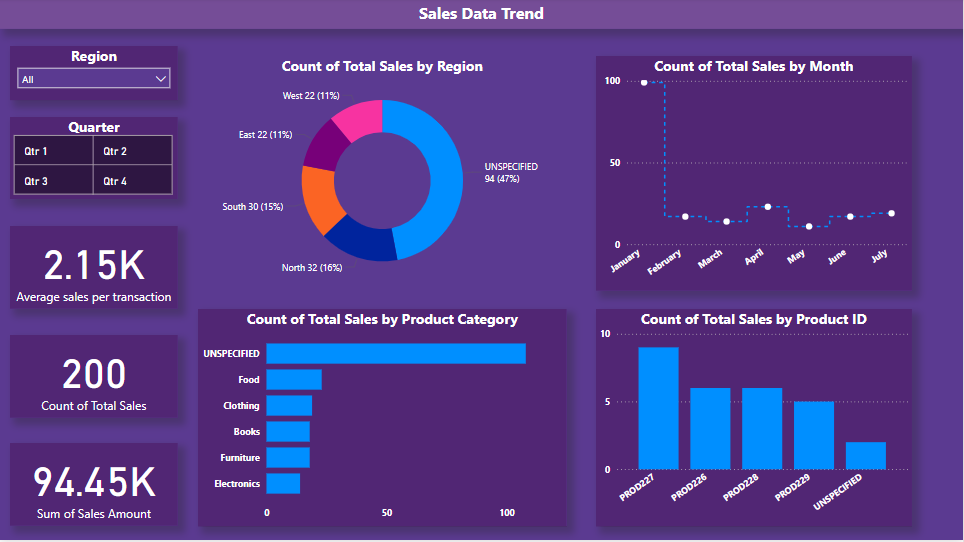

What the dashboard file says about the page in this screenshot:
{"tool":"powerbi","page":{"name":"Sales Data Trend","canvas":[1280,720],"ordinal":0},"visuals":[{"type":"textbox","box":[0,0,1280,41.3],"z":0},{"type":"lineChart","fields":{"Category":["Sales Data.Order Date.Variation.Date Hierarchy.Month"],"Y":["CountNonNull(Sales Data.Total Sales)"]},"box":[792.8,77.1,419.8,312.4],"z":1000},{"type":"barChart","fields":{"Category":["Sales Data.Product Category"],"Y":["CountNonNull(Sales Data.Total Sales)"]},"box":[262.9,412.9,490,289],"z":2000},{"type":"donutChart","fields":{"Category":["Sales Data.Region"],"Y":["CountNonNull(Sales Data.Total Sales)"]},"box":[262.9,77.1,490,312.4],"z":3000},{"type":"columnChart","fields":{"Y":["CountNonNull(Sales Data.Total Sales)"],"Category":["Sales Data.Product ID"]},"box":[792.8,412.9,419.8,289],"z":4000},{"type":"card","fields":{"Values":["Sales Data.Average sales per transactio"]},"box":[13.8,302.8,223,110.1],"z":5000},{"type":"card","fields":{"Values":["CountNonNull(Sales Data.Total Sales)"]},"box":[13.8,447.3,223,110.1],"z":6000},{"type":"card","fields":{"Values":["Sum(Sales Data.Sales Amount)"]},"box":[13.8,591.8,223,110.1],"z":7000},{"type":"advancedSlicerVisual","fields":{"Values":["Sales Data.Order Date.Variation.Date Hierarchy.Quarter"]},"box":[13.8,158.3,223,108.7],"z":8000},{"type":"slicer","title":"Region","fields":{"Values":["Sales Data.Region"]},"box":[13.8,63.3,223,71.6],"z":9000}]}

Visuals, with their boxes in screenshot pixels (x1, y1, x2, y2), scaled from the page's 1280x720 canvas onto the 964x542 screenshot:
textbox: (0,0,963,31)
lineChart - Sales Data.Order Date.Variation.Date Hierarchy.Month x CountNonNull(Sales Data.Total Sales): (597,58,913,293)
barChart - Sales Data.Product Category x CountNonNull(Sales Data.Total Sales): (198,311,567,528)
donutChart - Sales Data.Region x CountNonNull(Sales Data.Total Sales): (198,58,567,293)
columnChart - CountNonNull(Sales Data.Total Sales) x Sales Data.Product ID: (597,311,913,528)
card - Sales Data.Average sales per transactio: (10,228,178,311)
card - CountNonNull(Sales Data.Total Sales): (10,337,178,420)
card - Sum(Sales Data.Sales Amount): (10,445,178,528)
advancedSlicerVisual - Sales Data.Order Date.Variation.Date Hierarchy.Quarter: (10,119,178,201)
"Region" slicer: (10,48,178,102)
